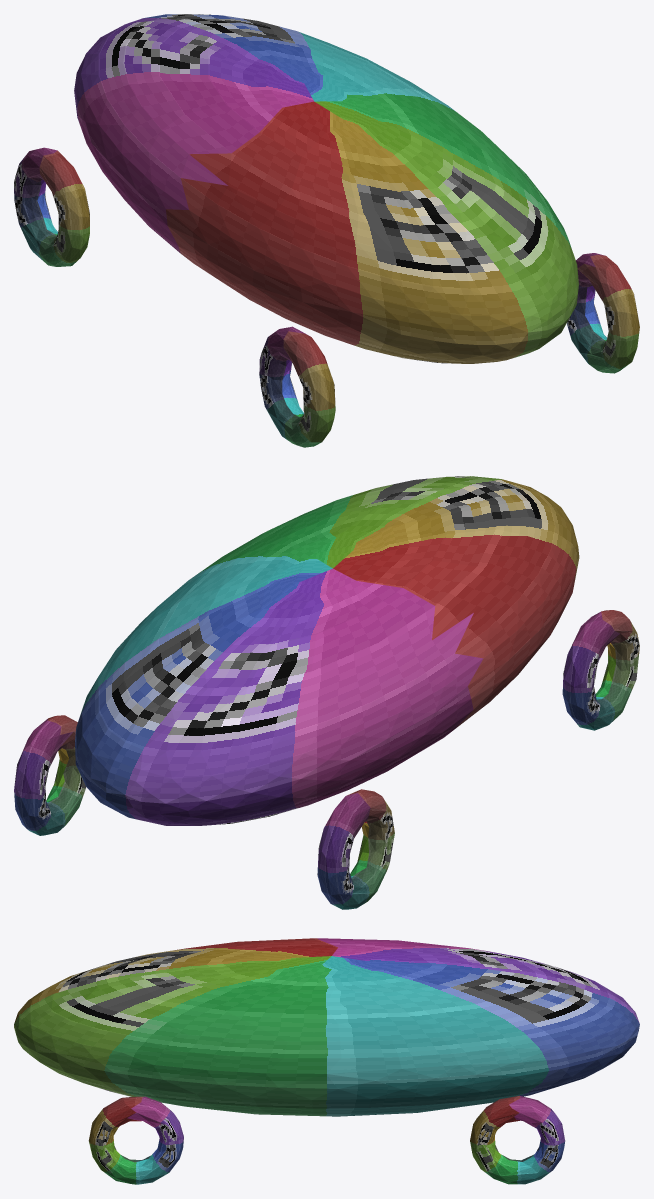
Rendered from lod-pipeline-fixture-lod1.glb.
The picture shows the model from 3 angles, top to bottom: view 1: azimuth 30°, elevation 25°; view 2: azimuth 150°, elevation 25°; view 3: azimuth 270°, elevation 25°; orthographic projection. The views are drawn at different scales.
Parts seen in each view (by area): view 1: Traffic_body, Traffic_FL, Traffic_RL, Traffic_FR; view 2: Traffic_body, Traffic_RL, Traffic_FL, Traffic_RR; view 3: Traffic_body, Traffic_RR, Traffic_FR.
Part boxes in pixels (left/top/right/bottom): Traffic_body: left=74, top=14, right=578, bottom=363; Traffic_FL: left=259, top=326, right=335, bottom=447; Traffic_RL: left=14, top=147, right=89, bottom=266; Traffic_FR: left=567, top=253, right=639, bottom=373; Traffic_body: left=75, top=476, right=579, bottom=825; Traffic_RL: left=317, top=789, right=394, bottom=909; Traffic_FL: left=562, top=610, right=639, bottom=730; Traffic_RR: left=14, top=715, right=86, bottom=835; Traffic_body: left=14, top=938, right=639, bottom=1116; Traffic_RR: left=470, top=1095, right=565, bottom=1184; Traffic_FR: left=88, top=1096, right=183, bottom=1184.
Bounding box in the file's own units: 2.18 × 1.35 × 4.6.
1 material, 1 textured.
